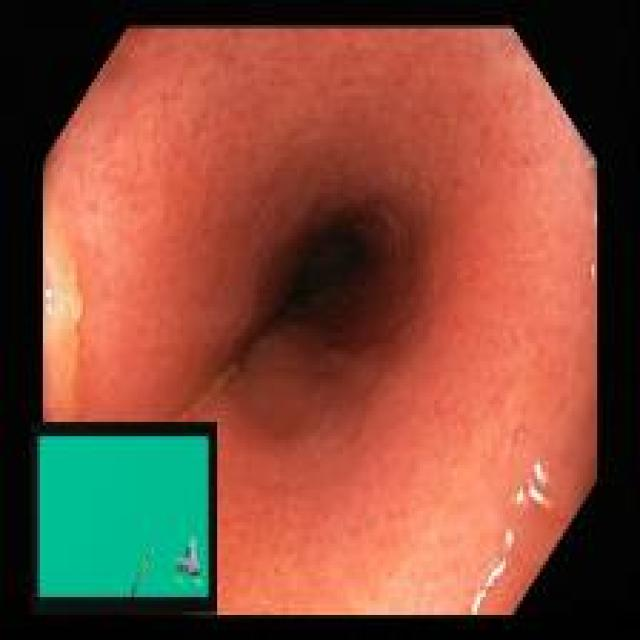ulcerative-colitis: (45, 28, 596, 615)
